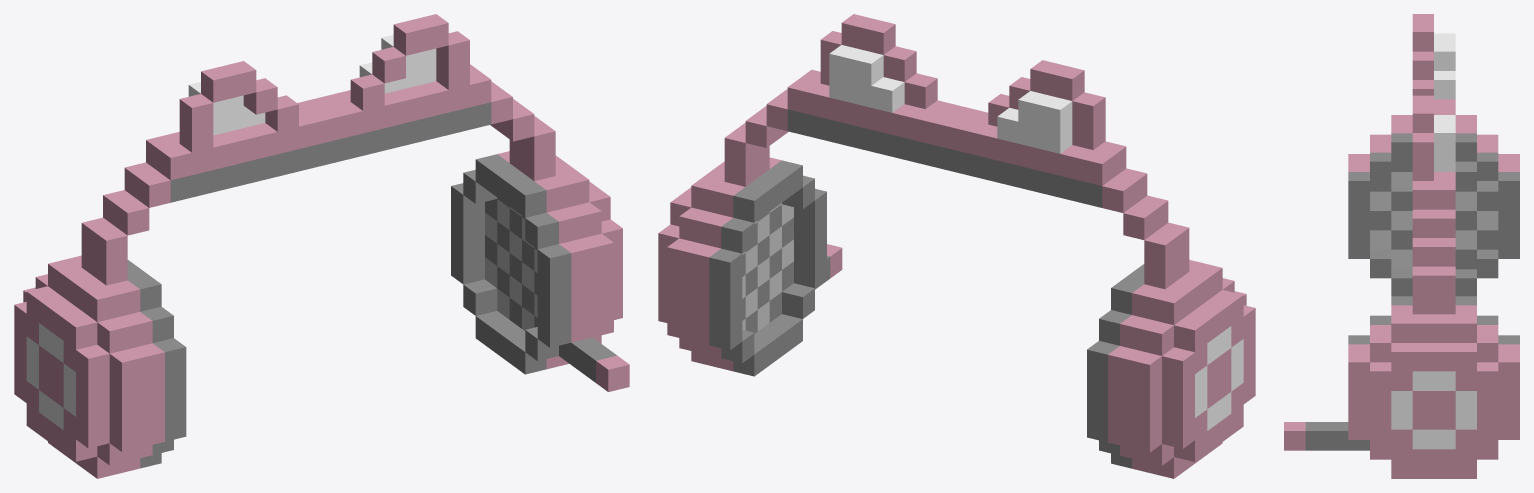
The model's file is accessories_head_razerkrakenkitty.glb.
3 views of the same model, side by side, from view 1: azimuth 30°, elevation 25°; view 2: azimuth 150°, elevation 25°; view 3: azimuth 270°, elevation 25° (orthographic). The views are drawn at different scales.
Parts seen in each view (by area): view 1: model_0.001; view 2: model_0.001; view 3: model_0.001.
Boxes of the visible parts, x1,y1,x2,y2 form: model_0.001: (14, 14, 629, 478); model_0.001: (658, 14, 1255, 478); model_0.001: (1284, 14, 1519, 478).
Size of the model in its own units: 25 by 16 by 11.
